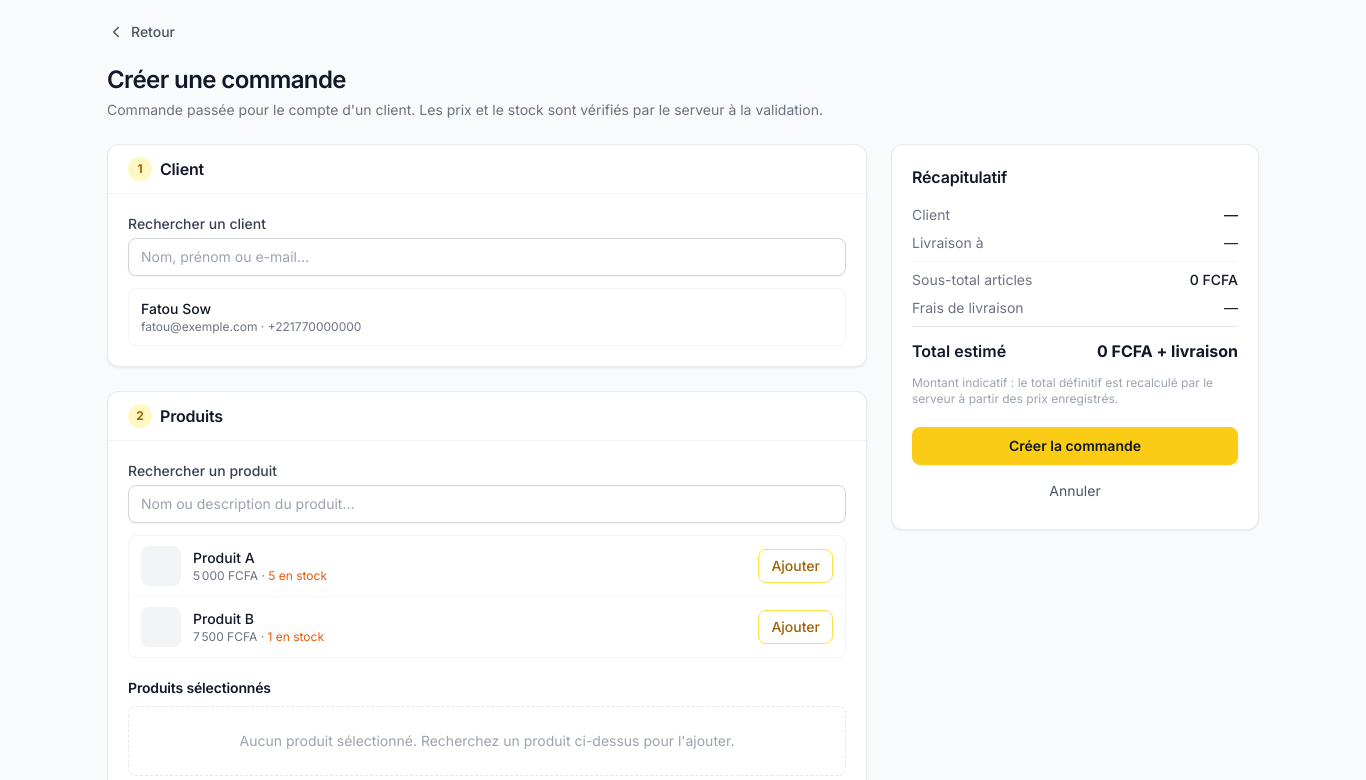
Scenario: OrderCreatePage — création de commande admin › produit ajouté deux fois : une seule ligne, quantité 2 ; sous-total et total recalculés
Click the button "Fatou Sow fatou@exemple.com · +221770000000".
click(176, 308)  # box [129,289,845,345]
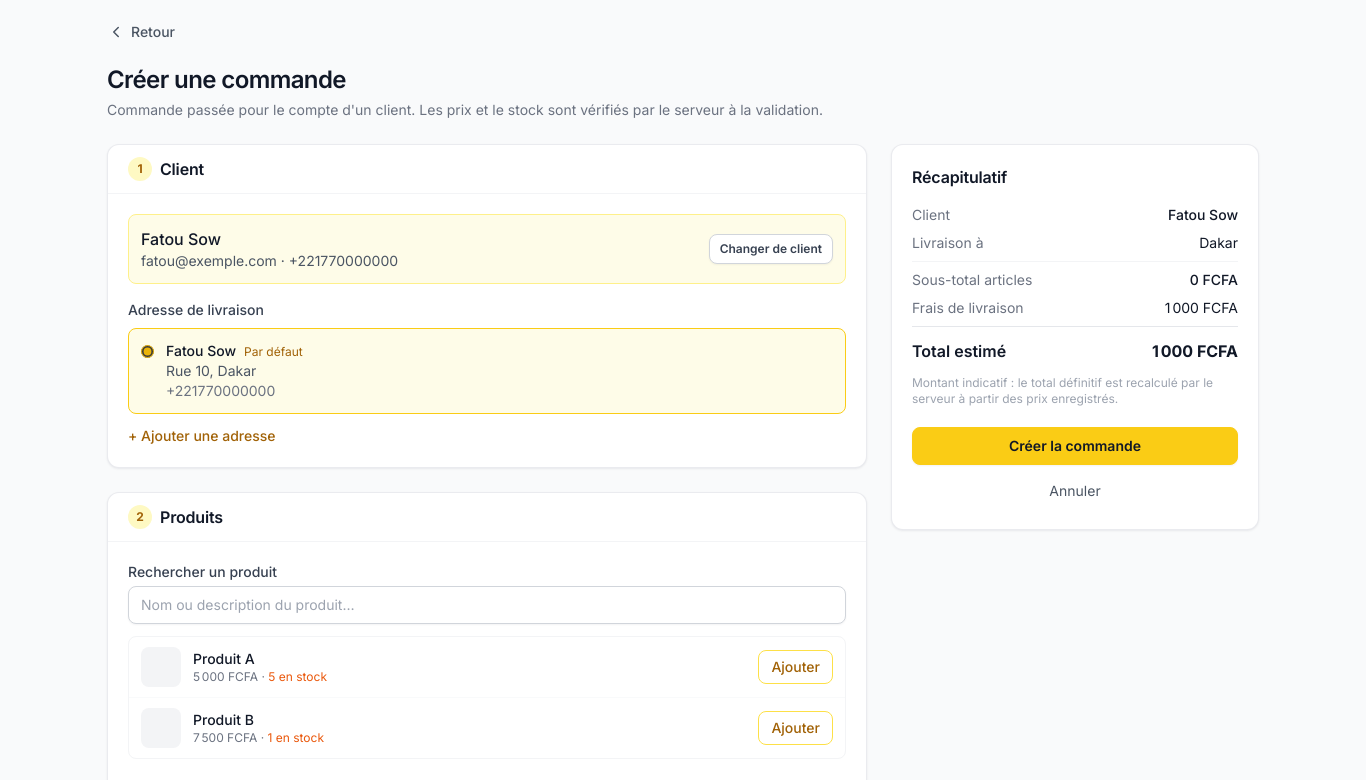
Now the radio button is checked, box [141,345,154,358]
Click the button with aria-label "Ajouter Produit A".
click(796, 667)  # box [758,650,833,684]
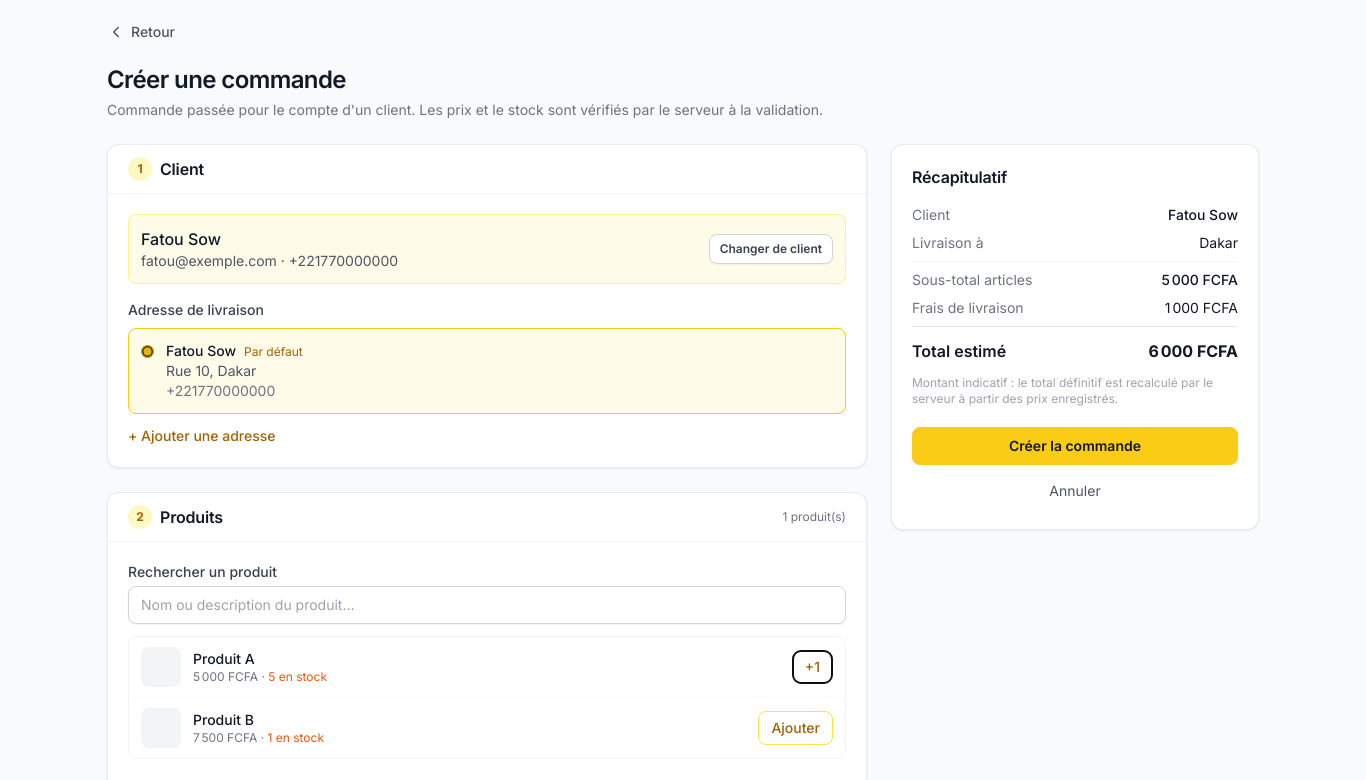
Click the button named "Ajouter Produit A".
click(812, 667)  # box [792,650,833,684]
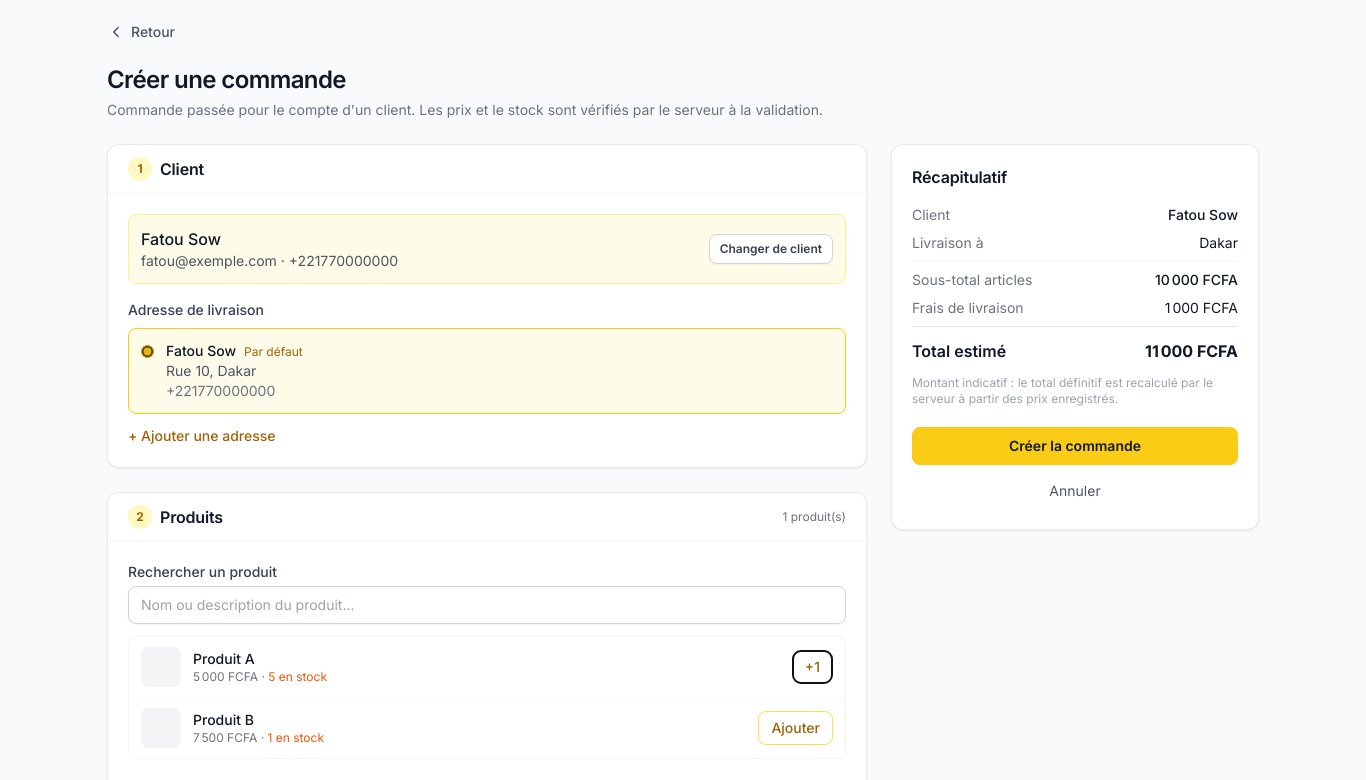
Now the text "1 000 FCFA" is shown, box [1165,298,1238,318]
Now the text "11 000 FCFA" is shown, box [1145,339,1238,363]
